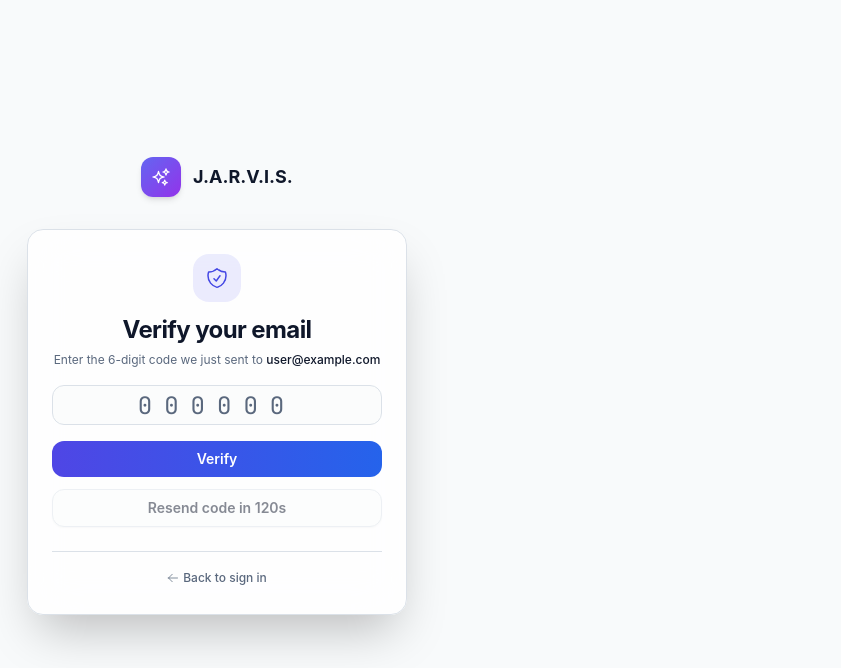
Scenario: VerifyEmailPage › shows the translated fallback toast on verification failure (en)
In the field: [217, 405] box top-left (52, 385), bottom-right (382, 425), type "123456"
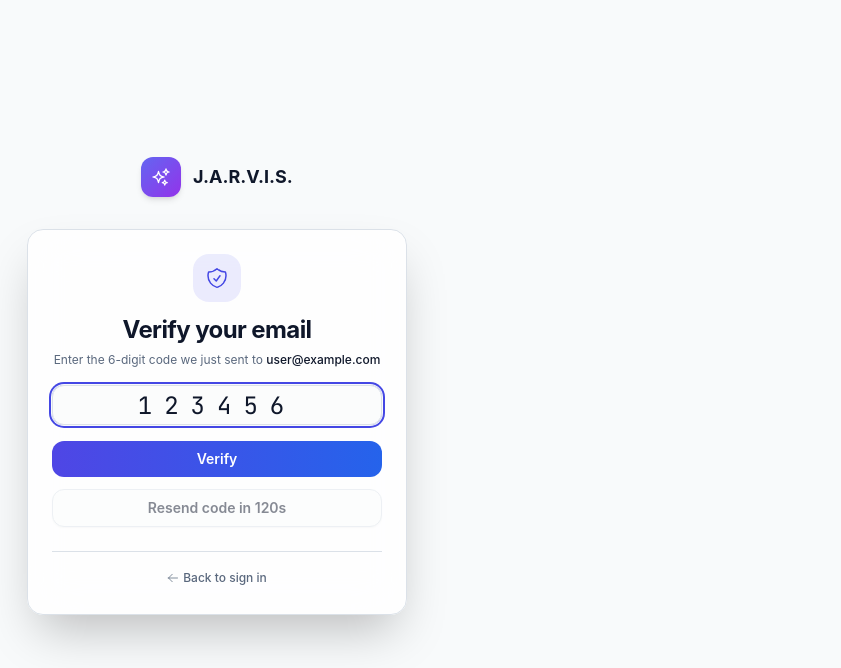
Click the button "Verify": [217, 459] box top-left (52, 441), bottom-right (382, 477)
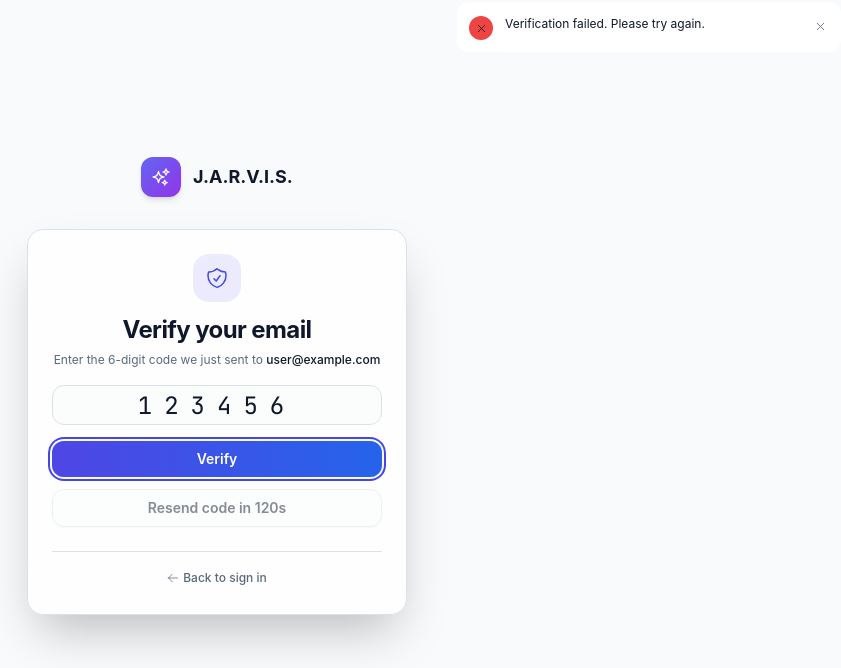
Expected: the text "Verification failed. Please try again." is shown, top-left (505, 16), bottom-right (705, 31)
